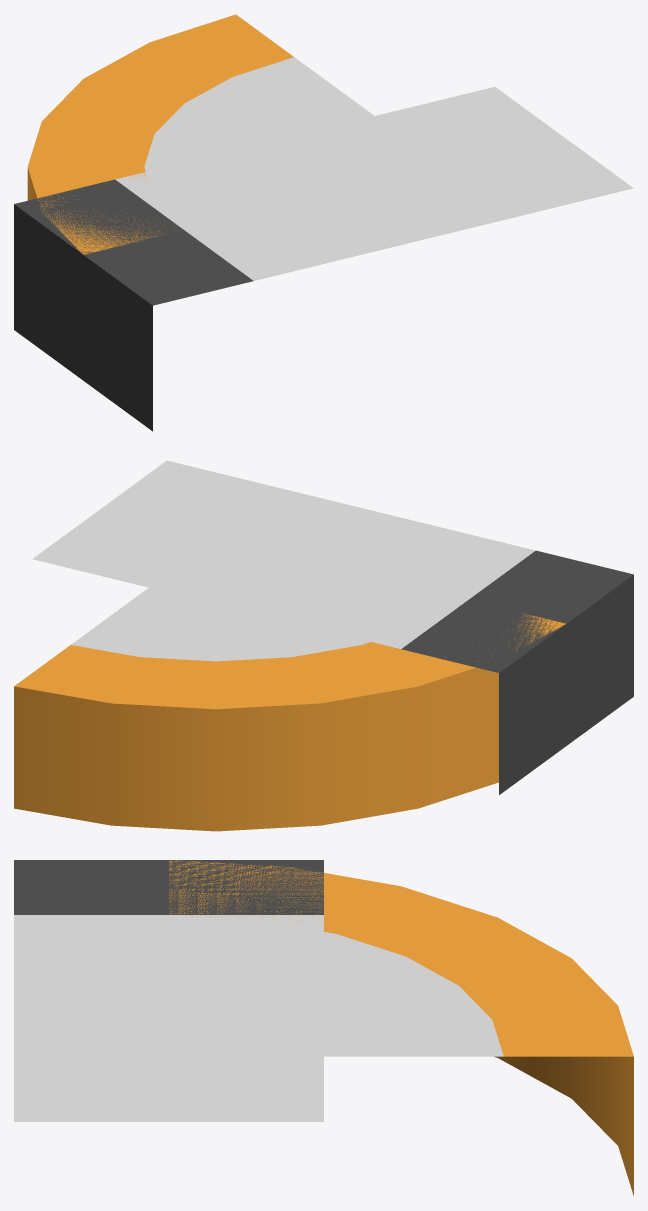
The model's file is Island.fbx.
3 renders of one model, top to bottom at view 1: azimuth 30°, elevation 25°; view 2: azimuth 150°, elevation 25°; view 3: azimuth 270°, elevation 25°, orthographic. The views are drawn at different scales.
Visible parts, largest first — view 1: Edge, Corner, Flat; view 2: Corner, Edge, Flat; view 3: Edge, Corner, Flat.
Part boxes in pixels (box(x1,y1,x2,y2)): Edge: box(14, 116, 513, 431); Corner: box(27, 14, 428, 254); Flat: box(303, 87, 633, 245); Corner: box(14, 588, 566, 831); Edge: box(170, 489, 633, 794); Flat: box(32, 460, 398, 615); Edge: box(14, 860, 323, 1056); Corner: box(169, 860, 633, 1195); Flat: box(14, 1003, 323, 1121).
Size of the model in its own units: 200 by 50 by 200.
